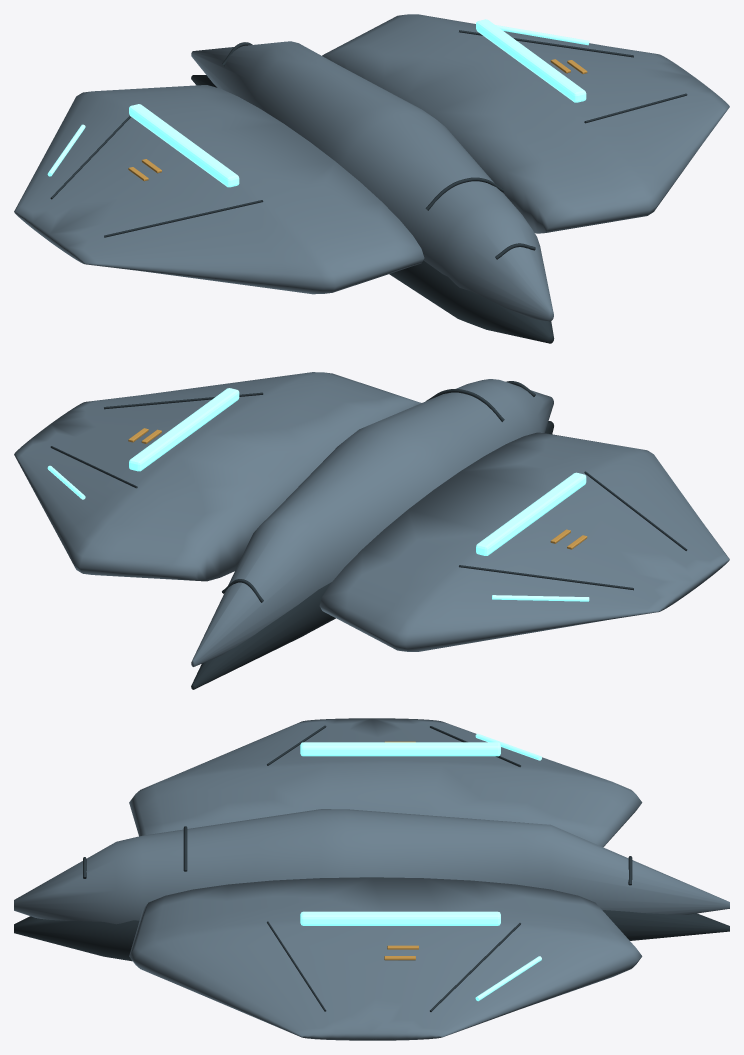
File: tactical-2.glb
The picture shows the model from 3 angles, top to bottom: view 1: azimuth 30°, elevation 25°; view 2: azimuth 150°, elevation 25°; view 3: azimuth 270°, elevation 25°; orthographic projection.
Parts seen in each view (by area): view 1: SM_Shield_Left, SM_Shield_Right, SM_Hull, SM_Wing_Right, SM_Wing_Left; view 2: SM_Shield_Left, SM_Shield_Right, SM_Hull, SM_Wing_Left, SM_Wing_Right; view 3: SM_Shield_Right, SM_Hull, SM_Shield_Left, SM_Wing_Right, SM_Wing_Left.
Part boxes in pixels (x1,y1,x2,y2): SM_Shield_Left: (14, 85, 424, 294); SM_Shield_Right: (322, 14, 729, 233); SM_Hull: (191, 41, 554, 343); SM_Wing_Right: (459, 25, 687, 123); SM_Wing_Left: (47, 115, 263, 237); SM_Shield_Left: (319, 432, 729, 651); SM_Shield_Right: (14, 372, 421, 581); SM_Hull: (191, 379, 553, 689); SM_Wing_Left: (459, 471, 687, 601); SM_Wing_Right: (47, 392, 263, 499); SM_Shield_Right: (129, 877, 642, 1040); SM_Hull: (14, 809, 729, 961); SM_Shield_Left: (129, 718, 642, 847); SM_Wing_Right: (267, 921, 541, 1011); SM_Wing_Left: (267, 725, 541, 767).
Bounding box in the file's own units: 5.2 × 1.08 × 5.
